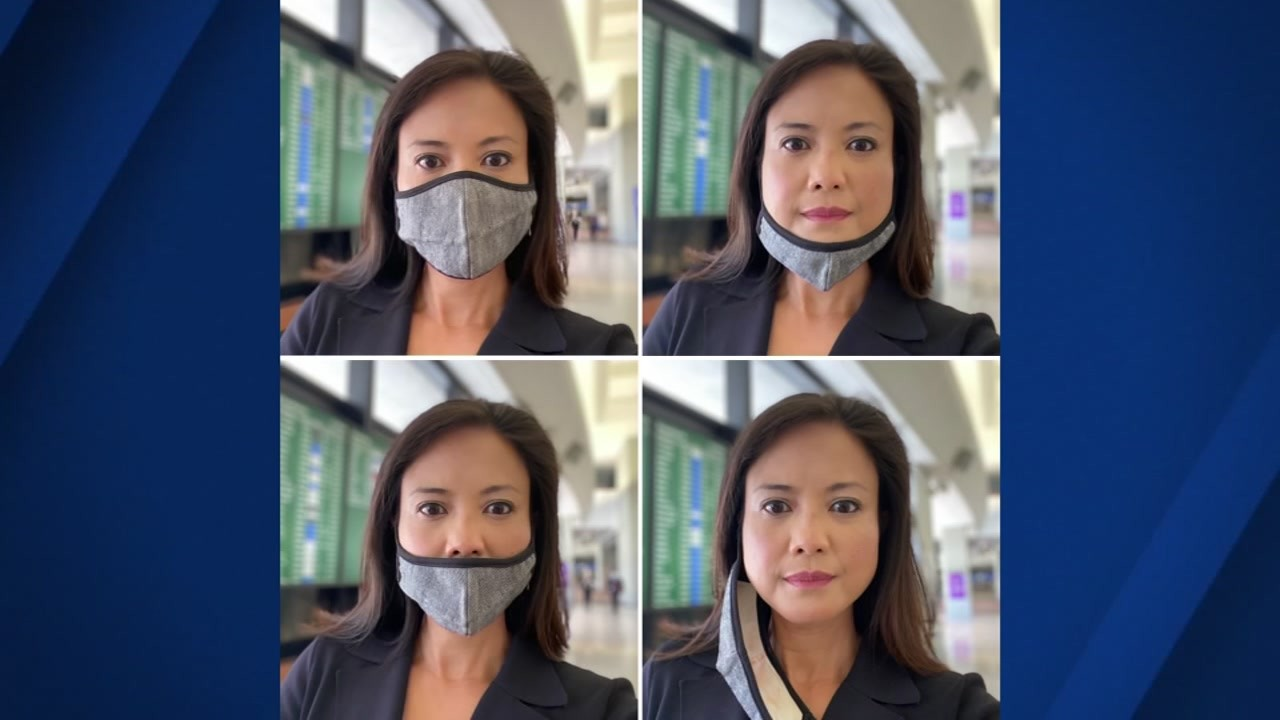mask_weared_incorrectly: (756, 114, 893, 290), (397, 481, 539, 640)
with_mask: (392, 129, 535, 286)
without_mask: (741, 473, 881, 617)
